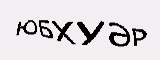Ә: (108, 17, 131, 54)
